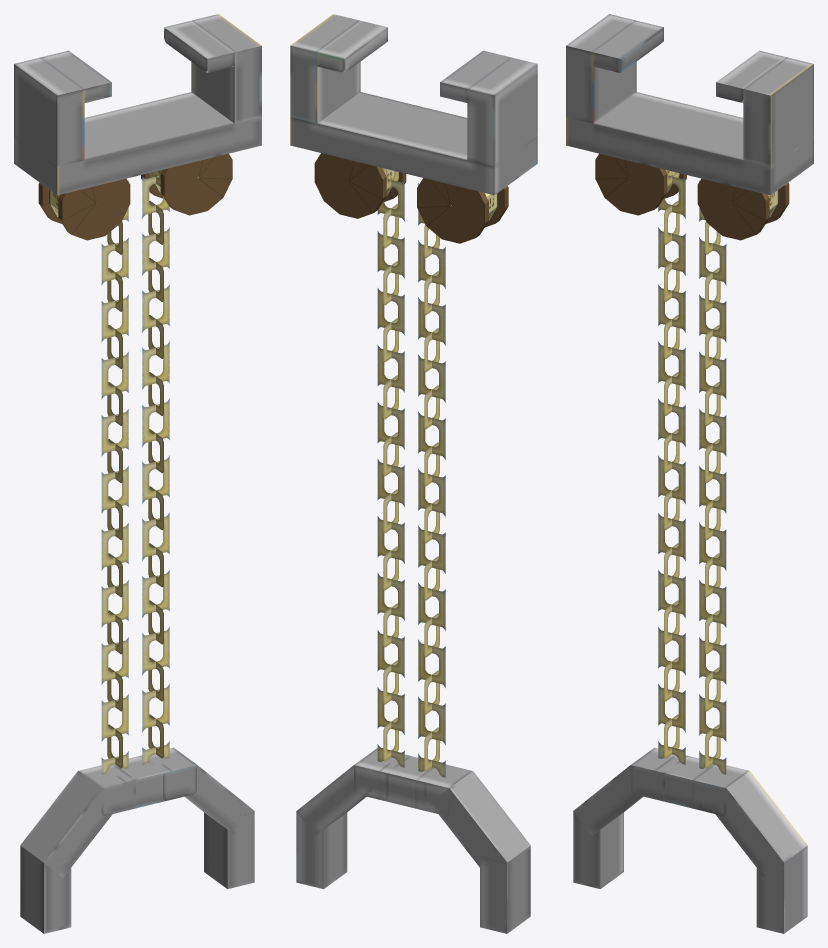
Rendered from CraneW.fbx.
3 renders of one model, left to right at view 1: azimuth 30°, elevation 25°; view 2: azimuth 150°, elevation 25°; view 3: azimuth 330°, elevation 25°, orthographic.
Visible parts, largest first — view 1: cube_9, cube_2, cube_14, cube_11, cube_4, cube_10, cube_5, cube, cube_15, cylinder_3, cylinder_2, cube_6 (+6 smaller); view 2: cube_9, cube_2, cube_14, cube_11, cube_10, cube_4, cube, cube_5, cylinder, cylinder_5, cube_15, cube_6 (+6 smaller); view 3: cube_9, cube_14, cube_2, cube_10, cube_3, cube_11, cube_15, cube_6, cube, cylinder_2, cylinder_3, cube_5 (+6 smaller).
Boxes of the visible parts, left/top/right/bottom form: cube_9: left=14, top=92, right=261, bottom=195; cube_2: left=142, top=176, right=169, bottom=764; cube_14: left=101, top=180, right=128, bottom=774; cube_11: left=14, top=57, right=84, bottom=166; cube_4: left=20, top=771, right=116, bottom=877; cube_10: left=191, top=14, right=261, bottom=123; cube_5: left=20, top=846, right=71, bottom=933; cube: left=148, top=170, right=163, bottom=758; cube_15: left=107, top=221, right=122, bottom=768; cylinder_3: left=58, top=178, right=130, bottom=240; cylinder_2: left=160, top=153, right=232, bottom=215; cube_6: left=204, top=812, right=254, bottom=888; cube_9: left=290, top=92, right=537, bottom=195; cube_2: left=377, top=179, right=404, bottom=767; cube_14: left=418, top=183, right=445, bottom=777; cube_11: left=467, top=57, right=537, bottom=166; cube_10: left=290, top=14, right=360, bottom=123; cube_4: left=430, top=771, right=530, bottom=875; cube: left=383, top=168, right=398, bottom=761; cube_5: left=480, top=846, right=530, bottom=933; cylinder: left=314, top=153, right=386, bottom=218; cylinder_5: left=417, top=178, right=488, bottom=243; cube_15: left=424, top=225, right=439, bottom=771; cube_6: left=296, top=812, right=347, bottom=889; cube_9: left=566, top=92, right=813, bottom=195; cube_14: left=658, top=176, right=685, bottom=764; cube_2: left=699, top=180, right=726, bottom=774; cube_10: left=743, top=57, right=813, bottom=166; cube_3: left=708, top=771, right=807, bottom=877; cube_11: left=566, top=14, right=636, bottom=123; cube_15: left=664, top=170, right=679, bottom=758; cube_6: left=756, top=846, right=807, bottom=933; cube: left=705, top=221, right=720, bottom=768; cylinder_2: left=697, top=178, right=769, bottom=240; cylinder_3: left=595, top=153, right=667, bottom=215; cube_5: left=573, top=812, right=623, bottom=888.
Bounding box in the file's own units: 96.78 × 370 × 34.38.
Materials: 1 (1 with a texture image).
